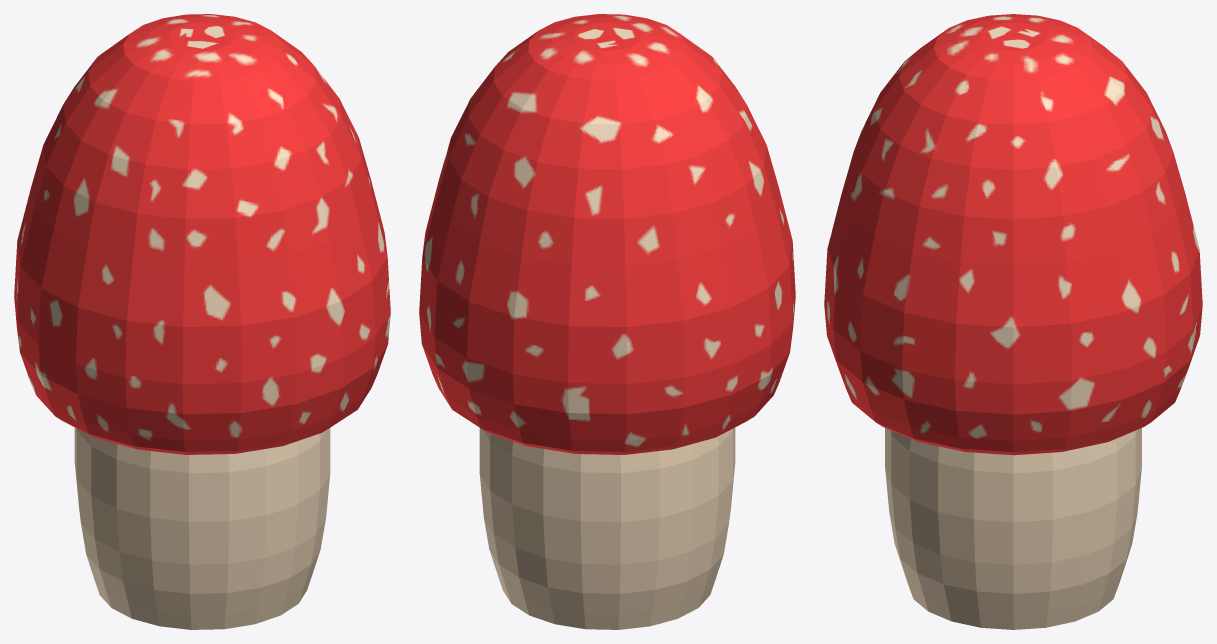
File: Mushroom_Small_01.fbx
3 views of the same model, side by side, from view 1: azimuth 30°, elevation 25°; view 2: azimuth 150°, elevation 25°; view 3: azimuth 270°, elevation 25° (orthographic).
Visible parts, largest first — view 1: small_sized_mshrm_01; view 2: small_sized_mshrm_01; view 3: small_sized_mshrm_01.
Part boxes in pixels (left/top/right/bottom): small_sized_mshrm_01: left=14, top=14, right=390, bottom=629; small_sized_mshrm_01: left=419, top=14, right=795, bottom=629; small_sized_mshrm_01: left=824, top=14, right=1202, bottom=629.
Size of the model in its own units: 2.17 by 3.46 by 2.17.
Materials: 1 (1 with a texture image).
